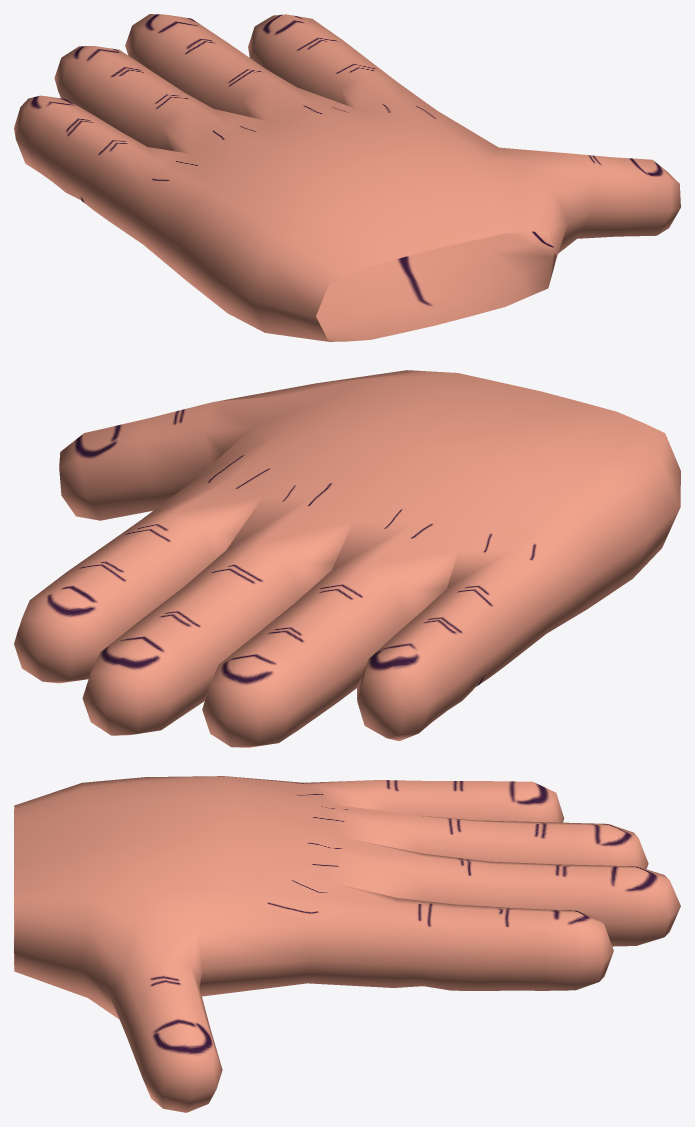
File: mano.fbx
3 views of the same model, one above another, from view 1: azimuth 30°, elevation 25°; view 2: azimuth 150°, elevation 25°; view 3: azimuth 270°, elevation 25° (orthographic). The views are drawn at different scales.
Visible parts, largest first — view 1: hand; view 2: hand; view 3: hand.
Part boxes in pixels (x1,y1,x2,y2): hand: (14,14,680,341); hand: (14,370,680,747); hand: (14,776,680,1112).
Size of the model in its own units: 290 by 85.45 by 344.
1 material, 1 textured.
